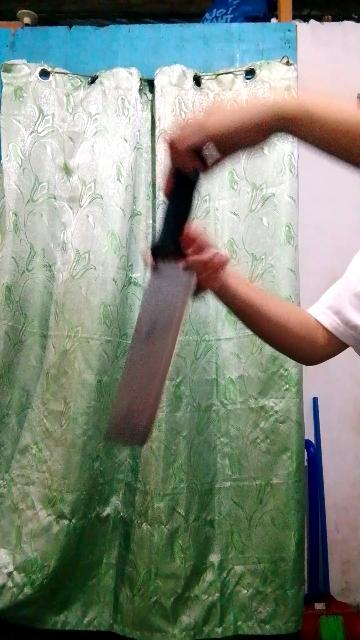long knife: (97, 125, 219, 451)
